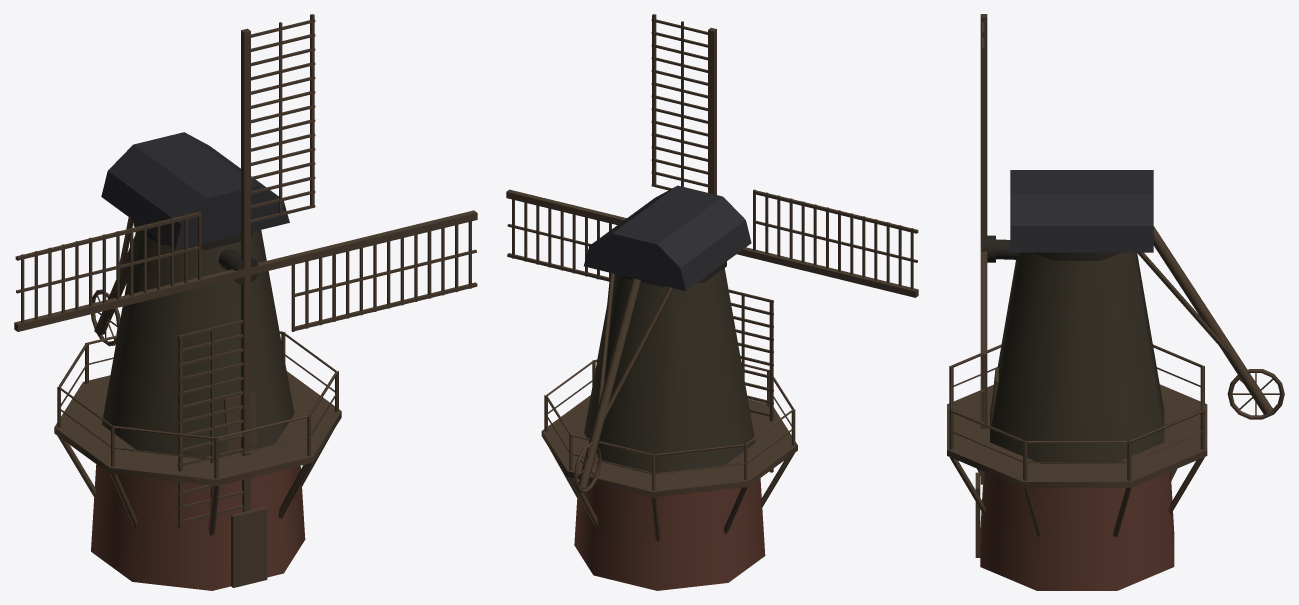
The model's file is windmill.glb.
3 views of the same model, side by side, from view 1: azimuth 30°, elevation 25°; view 2: azimuth 150°, elevation 25°; view 3: azimuth 270°, elevation 25° (orthographic). The views are drawn at different scales.
Visible parts, largest first — view 1: mill_mesh, sails_mesh; view 2: mill_mesh, sails_mesh; view 3: mill_mesh, sails_mesh.
Part boxes in pixels (<box>): mill_mesh: <box>54,132,341,590</box>; sails_mesh: <box>14,14,477,528</box>; mill_mesh: <box>541,185,797,590</box>; sails_mesh: <box>506,14,918,472</box>; mill_mesh: <box>947,170,1284,590</box>; sails_mesh: <box>980,14,995,484</box>.
Size of the model in its own units: 10.8 by 12.35 by 7.08.
